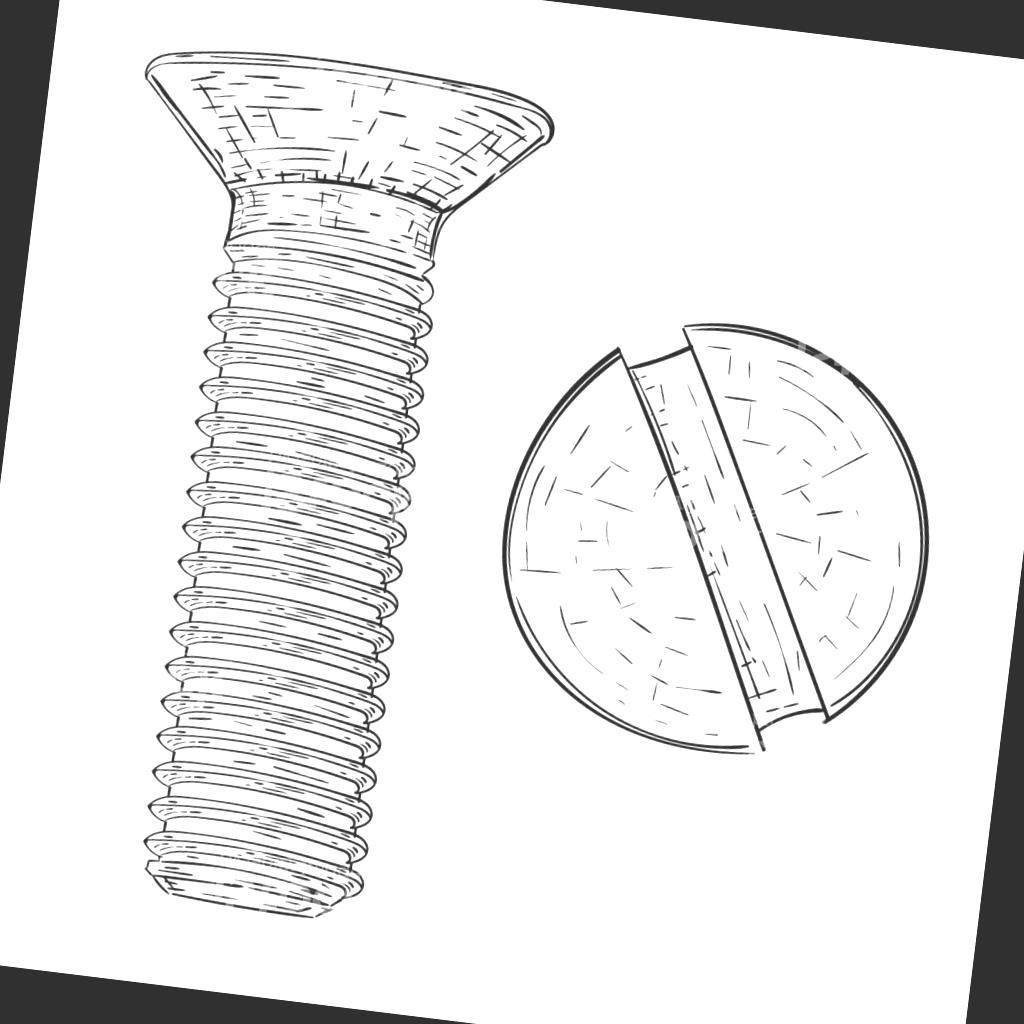slotted: (483, 306, 944, 767)
